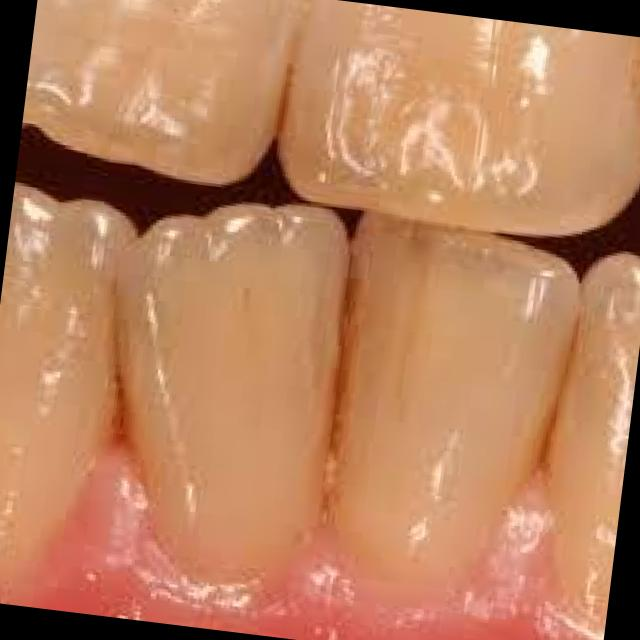Tooth: (328, 213, 584, 597), (117, 203, 347, 583), (280, 0, 640, 240), (25, 0, 313, 185), (0, 188, 138, 561), (545, 254, 640, 617)
